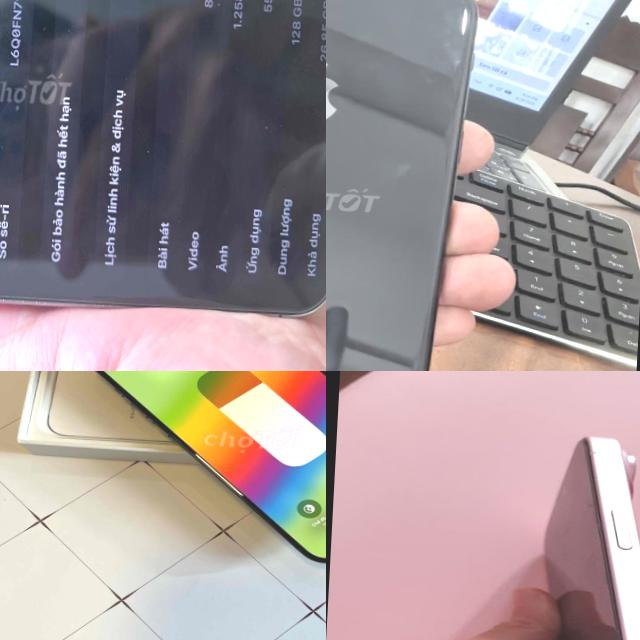gen_14: (0, 0, 326, 333)
gen_15: (52, 371, 326, 575), (495, 431, 640, 640)
gen_x_xs: (326, 0, 495, 371)
